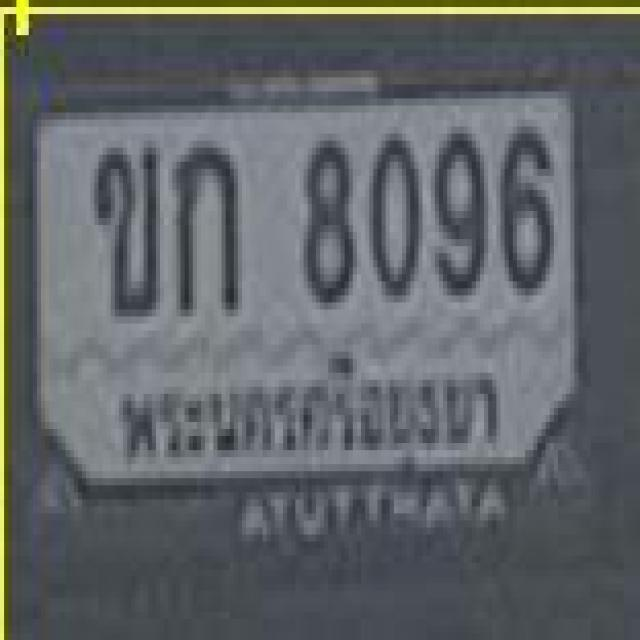license_plate: (20, 65, 619, 568)
